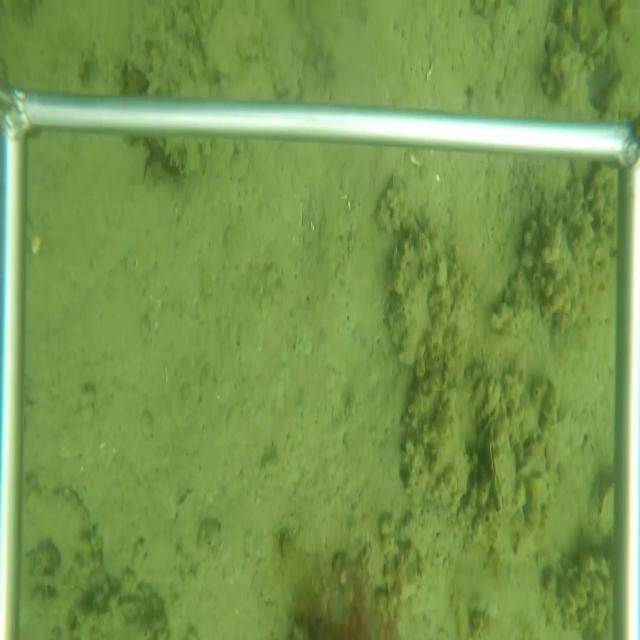Oyster-Closed: (479, 405, 517, 515)
